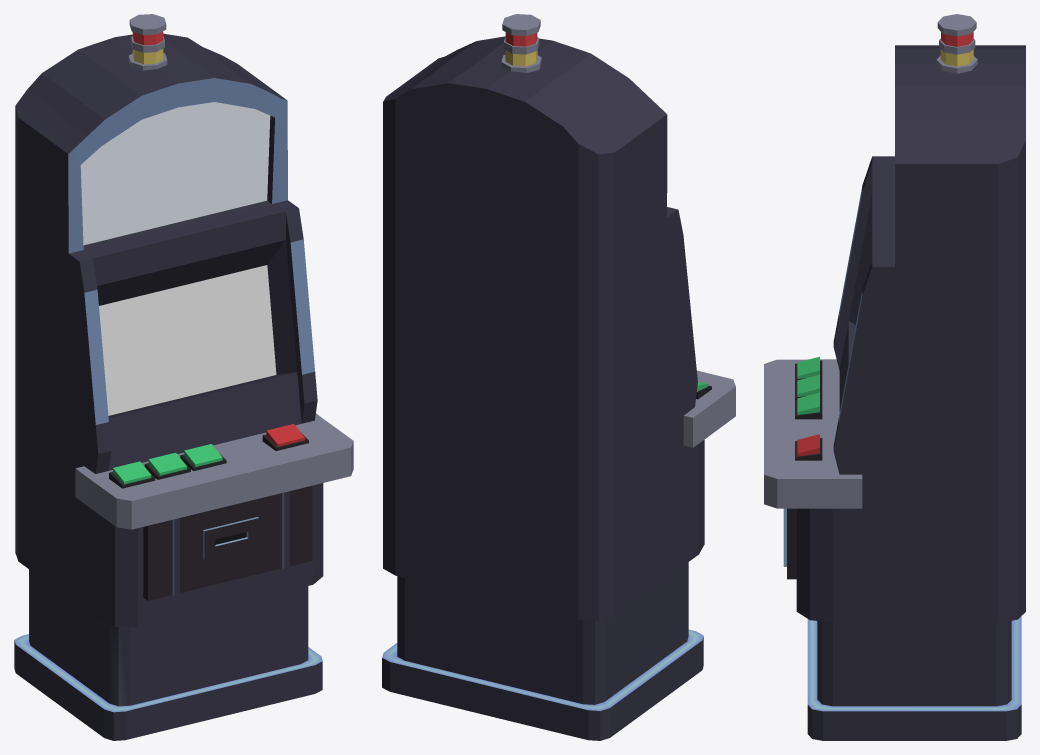
The model's file is SlotMachine_01.fbx.
3 renders of one model, left to right at view 1: azimuth 30°, elevation 25°; view 2: azimuth 150°, elevation 25°; view 3: azimuth 270°, elevation 25°, orthographic. The views are drawn at different scales.
Visible parts, largest first — view 1: SlotMachine, SlotMachine Screen; view 2: SlotMachine; view 3: SlotMachine.
Boxes of the visible parts, x1=… form: SlotMachine: x1=14, y1=14, x2=353, y2=740; SlotMachine Screen: x1=99, y1=265, x2=276, y2=415; SlotMachine: x1=382, y1=14, x2=735, y2=740; SlotMachine: x1=764, y1=14, x2=1025, y2=740.
Bounding box in the file's own units: 0.8649 × 2.24 × 0.8.
